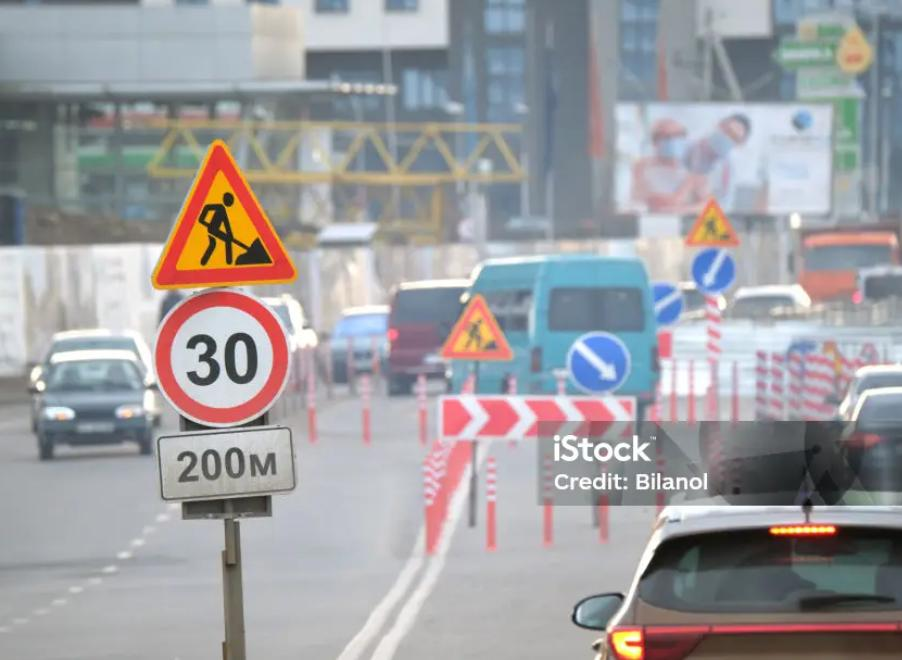obstructed_road_sign: (650, 282, 683, 326)
road_sign: (149, 138, 300, 282), (151, 289, 291, 427), (160, 430, 297, 502), (438, 396, 636, 440), (441, 293, 517, 358), (564, 331, 634, 396), (686, 197, 740, 246), (690, 248, 735, 293), (705, 293, 722, 361)
